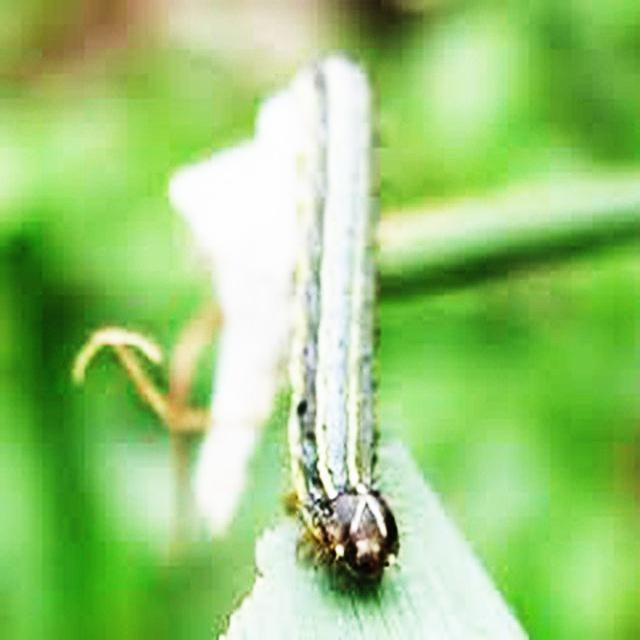gusano_cogollero: (292, 66, 404, 572)
